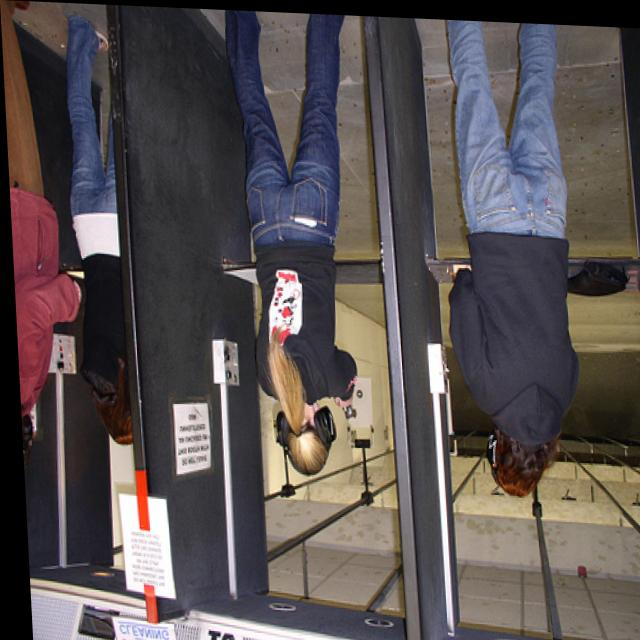handgun: (334, 398, 351, 421)
